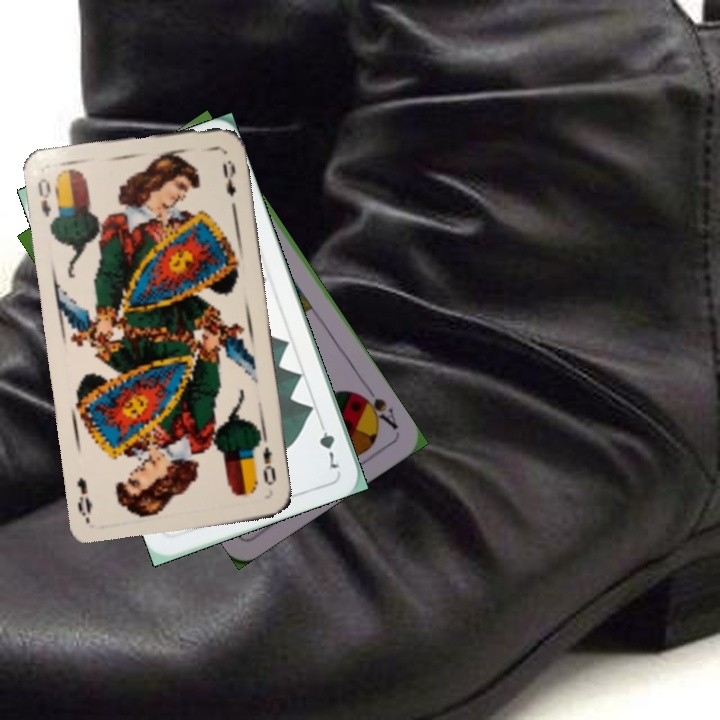EO: (33, 174, 54, 220), (259, 443, 279, 488)
G7: (315, 415, 342, 471)
SA: (353, 381, 401, 433)
